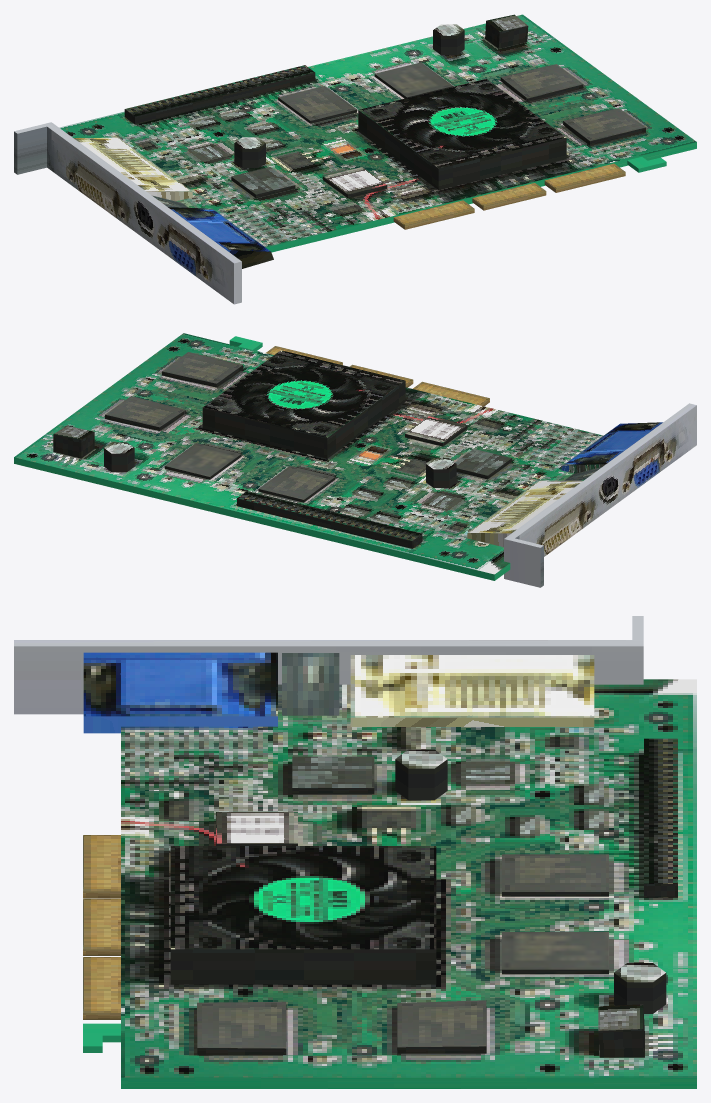
The model's file is gpu.glb.
3 renders of one model, top to bottom at view 1: azimuth 30°, elevation 25°; view 2: azimuth 150°, elevation 25°; view 3: azimuth 270°, elevation 25°, orthographic. The views are drawn at different scales.
Parts seen in each view (by area): view 1: Object_2, Object_3, Object_14, Object_12, Object_17, Object_15, Object_6, Object_7, Object_5, Object_4, Object_11, Object_13 (+6 smaller); view 2: Object_2, Object_3, Object_14, Object_12, Object_17, Object_15, Object_7, Object_6, Object_4, Object_5, Object_13, Object_11 (+4 smaller); view 3: Object_2, Object_3, Object_17, Object_14, Object_15, Object_12, Object_7, Object_6, Object_4, Object_5, Object_16, Object_11 (+8 smaller).
Part boxes in pixels (x1=…): Object_2: x1=59, y1=14, x2=696, y2=252; Object_3: x1=358, y1=78, x2=566, y2=190; Object_14: x1=14, y1=122, x2=241, y2=304; Object_12: x1=124, y1=65, x2=315, y2=124; Object_17: x1=73, y1=137, x2=192, y2=201; Object_15: x1=168, y1=207, x2=273, y2=268; Object_6: x1=500, y1=64, x2=583, y2=101; Object_7: x1=563, y1=108, x2=645, y2=145; Object_5: x1=278, y1=86, x2=356, y2=123; Object_4: x1=374, y1=62, x2=453, y2=98; Object_11: x1=231, y1=167, x2=295, y2=198; Object_13: x1=323, y1=167, x2=387, y2=198; Object_2: x1=14, y1=333, x2=603, y2=580; Object_3: x1=202, y1=350, x2=405, y2=458; Object_14: x1=504, y1=403, x2=696, y2=587; Object_12: x1=237, y1=491, x2=422, y2=548; Object_17: x1=467, y1=480, x2=583, y2=547; Object_15: x1=561, y1=422, x2=662, y2=473; Object_7: x1=162, y1=352, x2=242, y2=387; Object_6: x1=105, y1=396, x2=185, y2=430; Object_4: x1=164, y1=443, x2=241, y2=479; Object_5: x1=258, y1=466, x2=335, y2=502; Object_13: x1=405, y1=416, x2=467, y2=446; Object_11: x1=455, y1=449, x2=511, y2=479; Object_2: x1=121, y1=679, x2=696, y2=1088; Object_3: x1=170, y1=846, x2=436, y2=984; Object_17: x1=350, y1=655, x2=594, y2=726; Object_14: x1=14, y1=616, x2=643, y2=714; Object_15: x1=83, y1=652, x2=277, y2=733; Object_12: x1=644, y1=738, x2=677, y2=897; Object_7: x1=197, y1=1001, x2=286, y2=1055; Object_6: x1=397, y1=1000, x2=486, y2=1053; Object_4: x1=502, y1=932, x2=608, y2=974; Object_5: x1=502, y1=854, x2=608, y2=896; Object_16: x1=282, y1=653, x2=339, y2=715; Object_11: x1=292, y1=756, x2=374, y2=794.
Size of the model in its own units: 4.59 by 0.3432 by 3.13.
20 materials, 20 textured.
